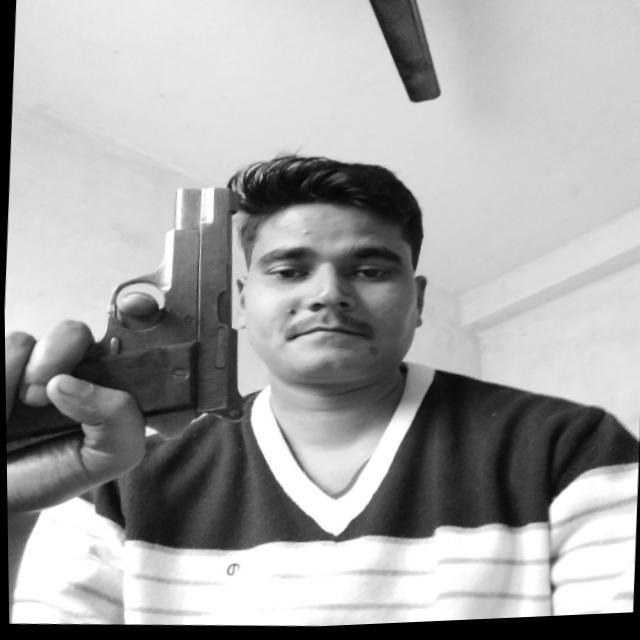weapon: (2, 170, 264, 481)
